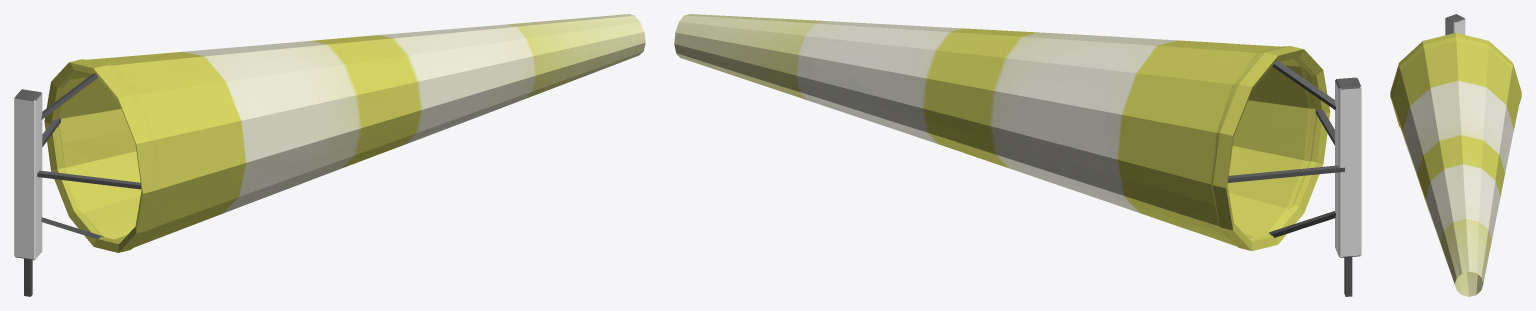
3 views of the same model, side by side, from view 1: azimuth 30°, elevation 25°; view 2: azimuth 150°, elevation 25°; view 3: azimuth 270°, elevation 25° (orthographic). The views are drawn at different scales.
Visible parts, largest first — view 1: WS-2.obj; view 2: WS-2.obj; view 3: WS-2.obj.
Part boxes in pixels (x1,y1,x2,y2): WS-2.obj: (14,14,645,296); WS-2.obj: (674,14,1361,296); WS-2.obj: (1390,14,1521,296).
Bounding box in the file's own units: 5.32 × 1.7 × 1.44.
